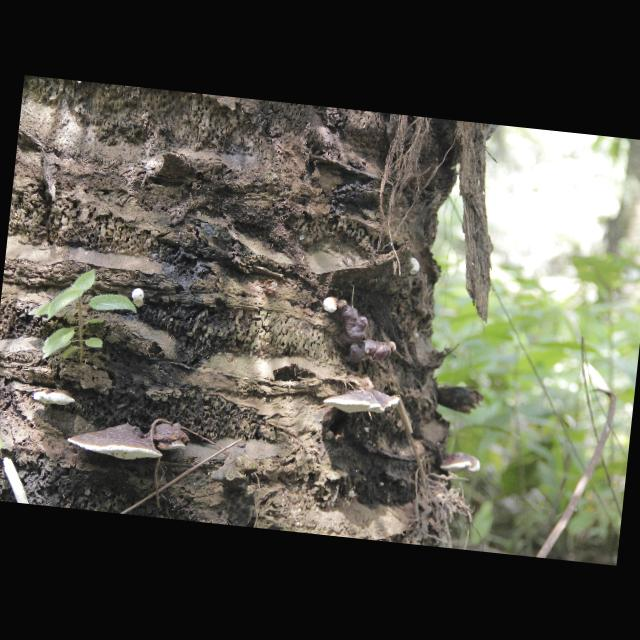ganoderma: (67, 418, 167, 465), (334, 299, 395, 368), (323, 385, 400, 420), (150, 422, 193, 455), (441, 452, 483, 477), (33, 387, 77, 408)
primordium: (131, 289, 146, 310), (323, 297, 339, 315), (409, 258, 422, 277), (389, 341, 398, 354)
